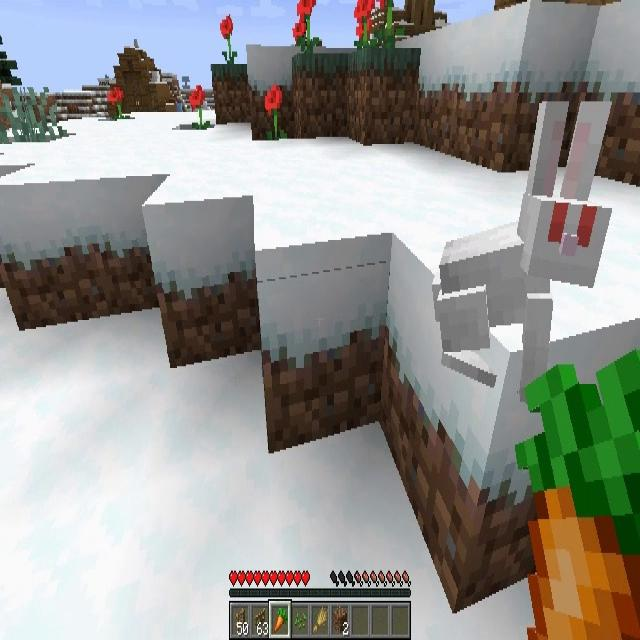flower: (266, 84, 285, 142), (292, 0, 314, 48), (352, 0, 373, 47), (221, 15, 238, 64), (190, 85, 205, 129), (110, 85, 123, 120)
rabbit: (436, 100, 609, 382)
